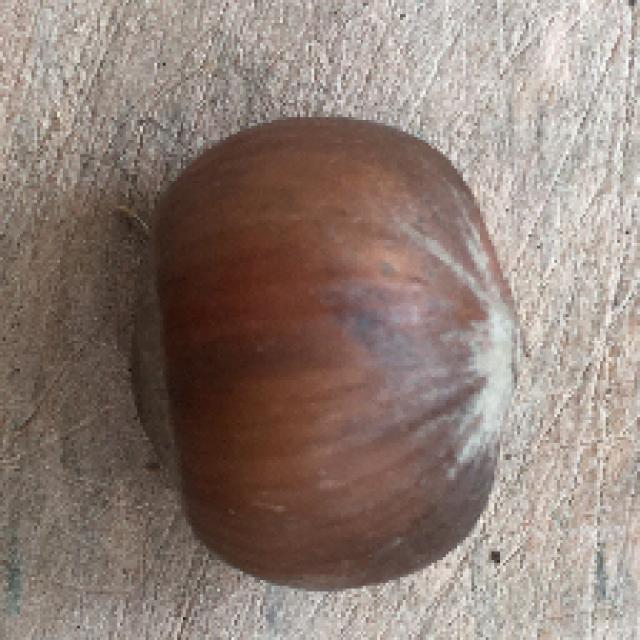qualityHazelnut: (136, 112, 519, 598)
